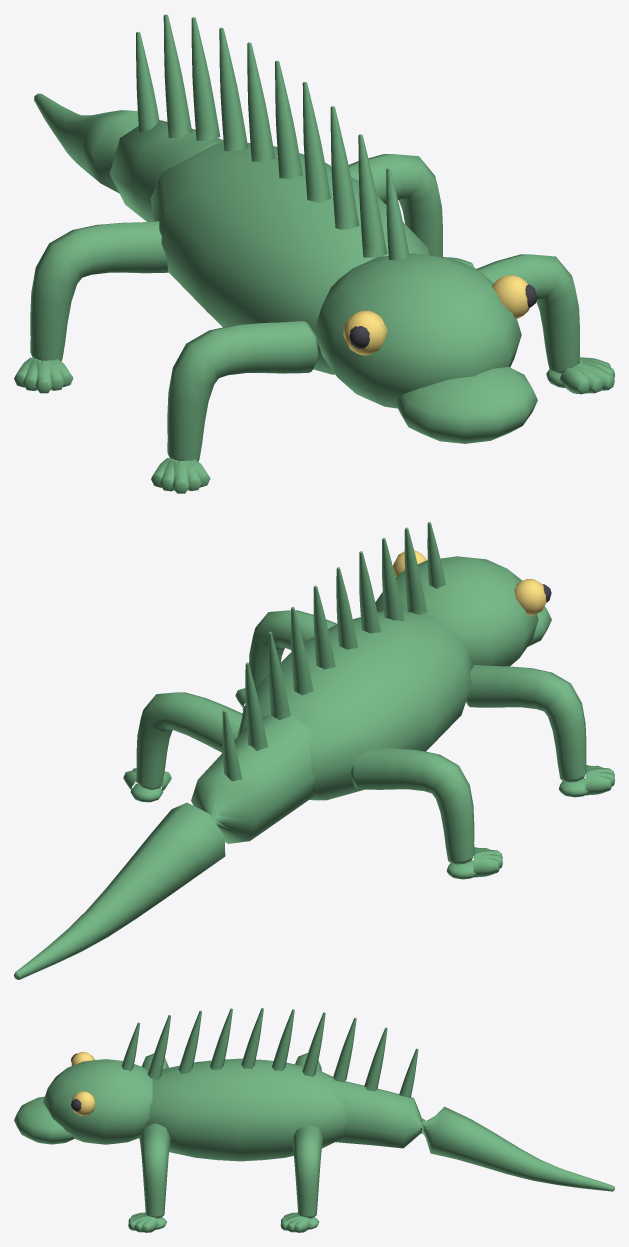
The model's file is reptiles-amphibians-and-minibeasts-basilisk-lizard-99cc285c__22430.glb.
The picture shows the model from 3 angles, top to bottom: view 1: azimuth 30°, elevation 25°; view 2: azimuth 150°, elevation 25°; view 3: azimuth 270°, elevation 25°; orthographic projection. The views are drawn at different scales.
Parts seen in each view (by area): view 1: basilisk-lizard; view 2: basilisk-lizard; view 3: basilisk-lizard.
Boxes of the visible parts, x1,y1,x2,y2 form: basilisk-lizard: (14,14,614,493); basilisk-lizard: (14,522,614,979); basilisk-lizard: (14,1008,614,1232).
Size of the model in its own units: 0.3428 by 0.2152 by 0.7.
